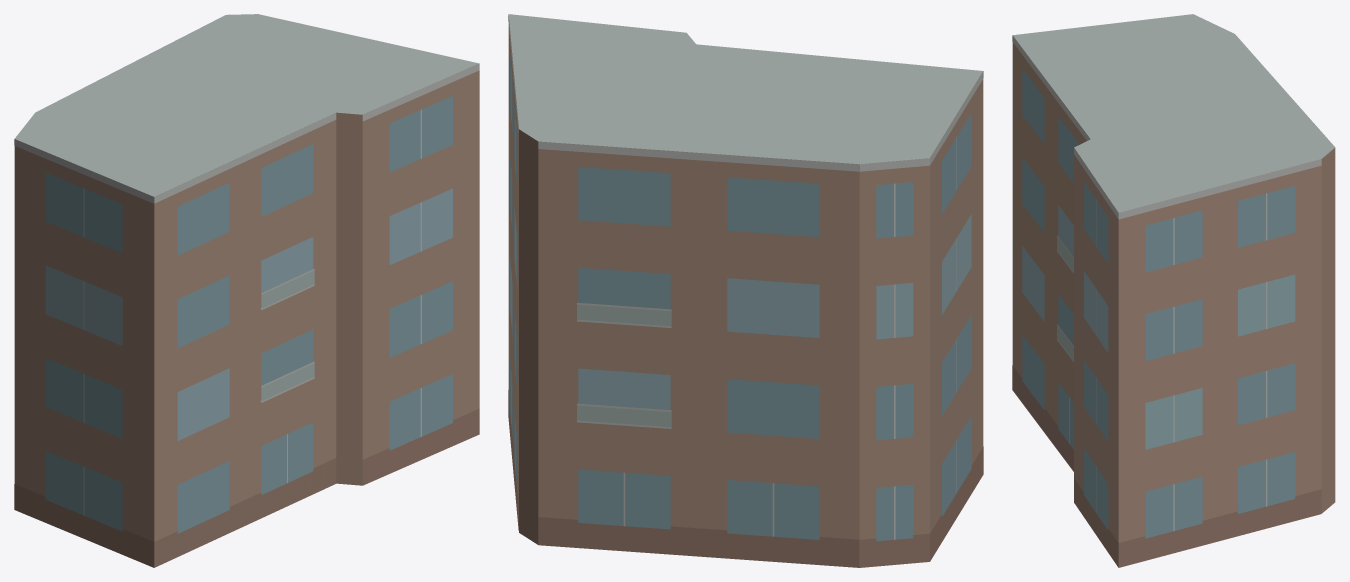
The model's file is survey-upis-32790256.glb.
The picture shows the model from 3 angles, left to right: view 1: azimuth 30°, elevation 25°; view 2: azimuth 150°, elevation 25°; view 3: azimuth 270°, elevation 25°; orthographic projection. The views are drawn at different scales.
Parts seen in each view (by area): view 1: survey-upis-32790256.tmp; view 2: survey-upis-32790256.tmp; view 3: survey-upis-32790256.tmp.
Part boxes in pixels (x1,y1,x2,y2): survey-upis-32790256.tmp: (14,14,479,567); survey-upis-32790256.tmp: (508,14,983,567); survey-upis-32790256.tmp: (1012,14,1335,567).
Bounding box in the file's own units: 15.88 × 13.2 × 10.89.
